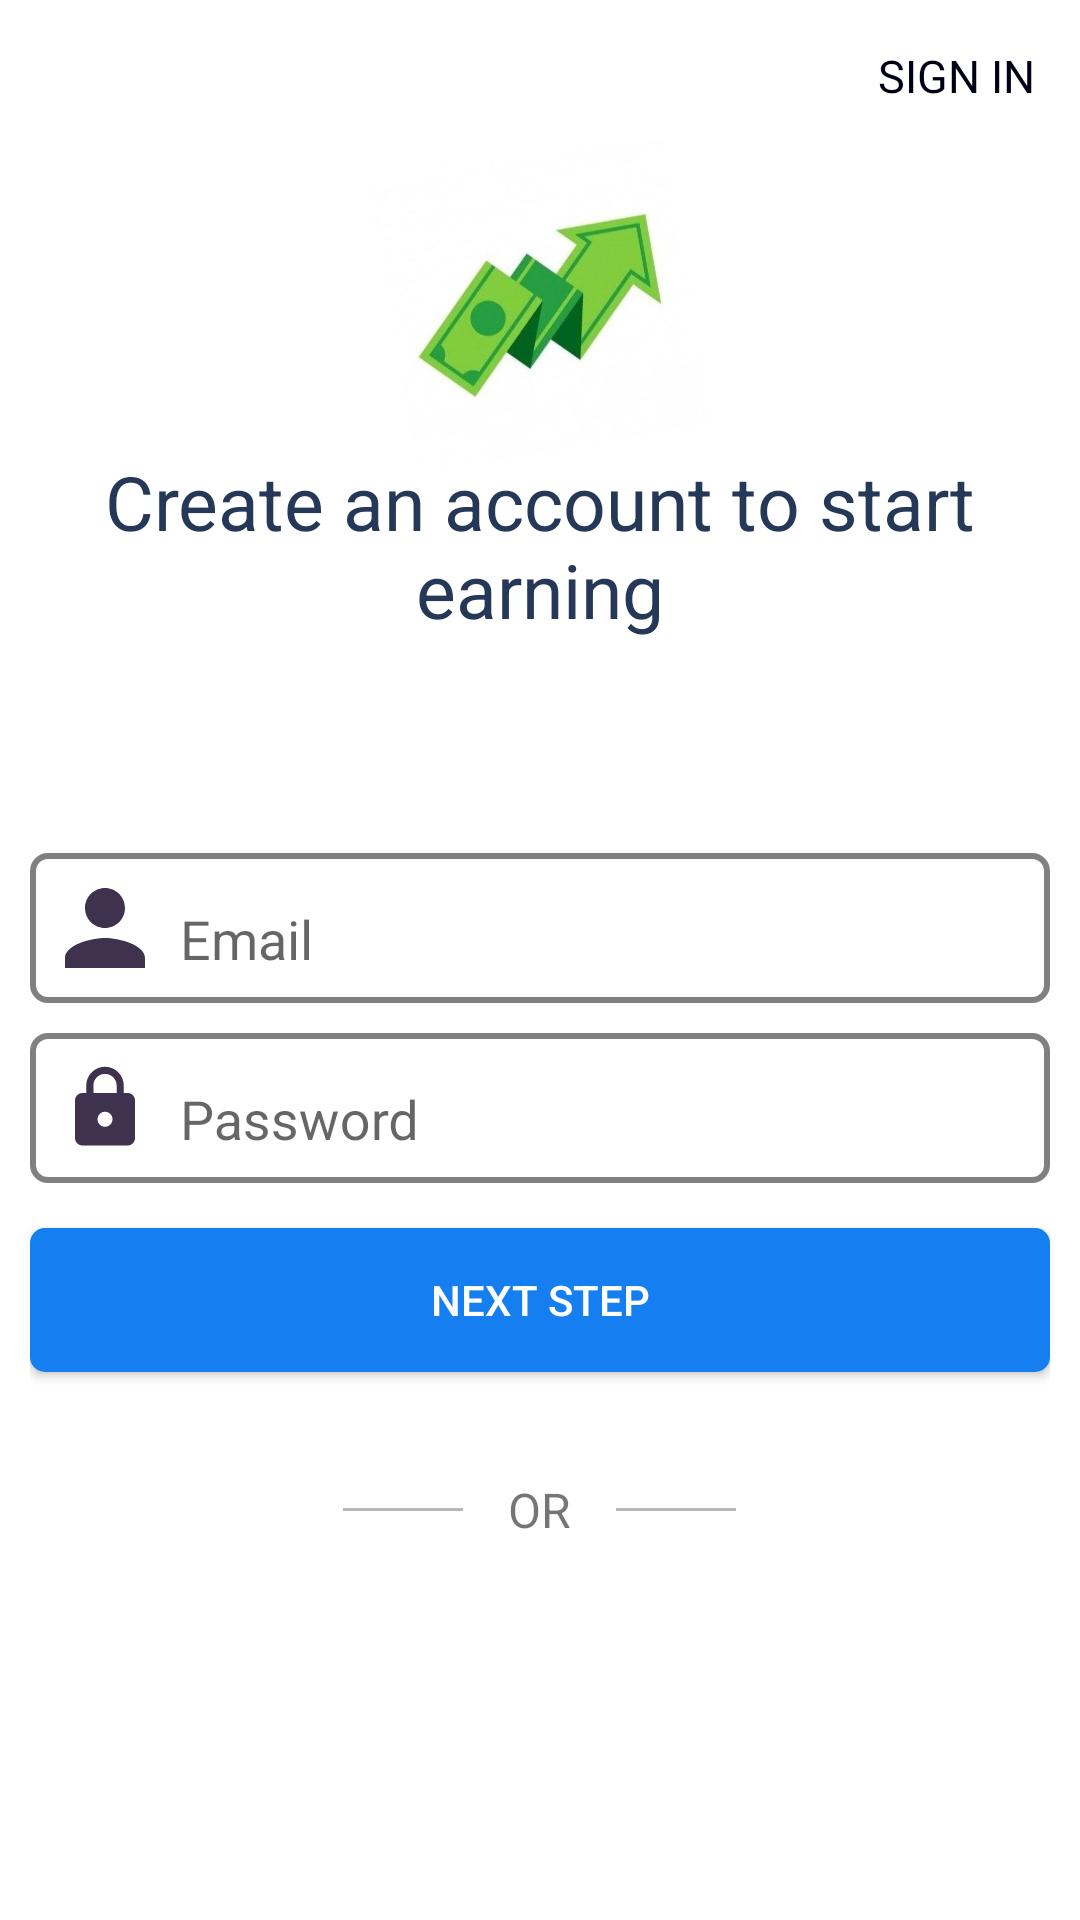

Icons on this 1080 x 1920 Android screen, each with the point to tap as (x,y):
lock: (105,1106)
user: (105,928)
